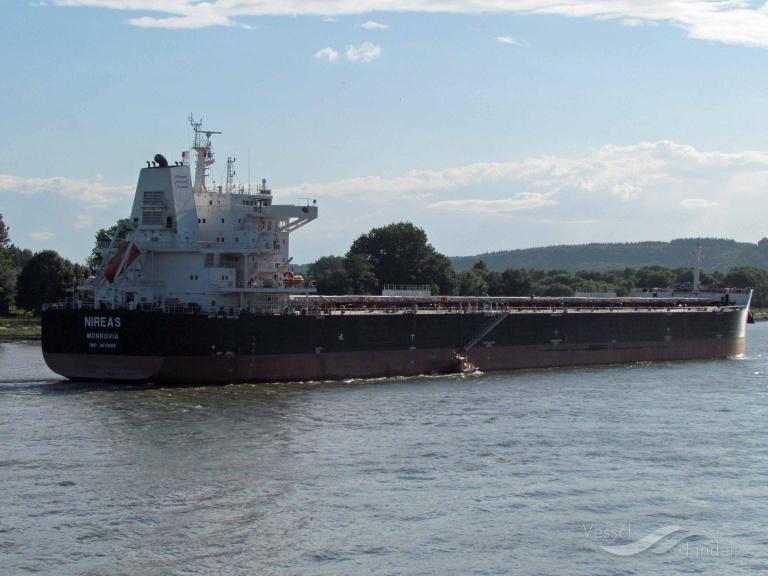OCR: (73, 310, 128, 353)
